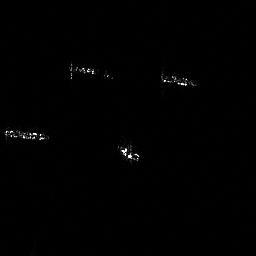ship: (65, 57, 117, 82), (1, 123, 53, 145), (157, 67, 201, 88), (113, 139, 143, 164)
